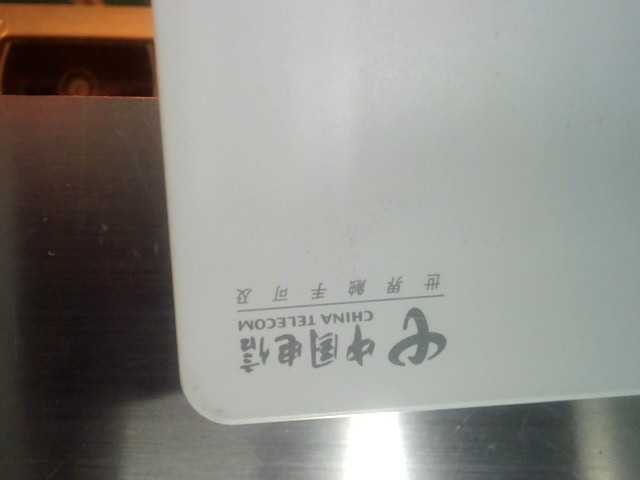AB_ChinaTelecom: (223, 270, 464, 377)
